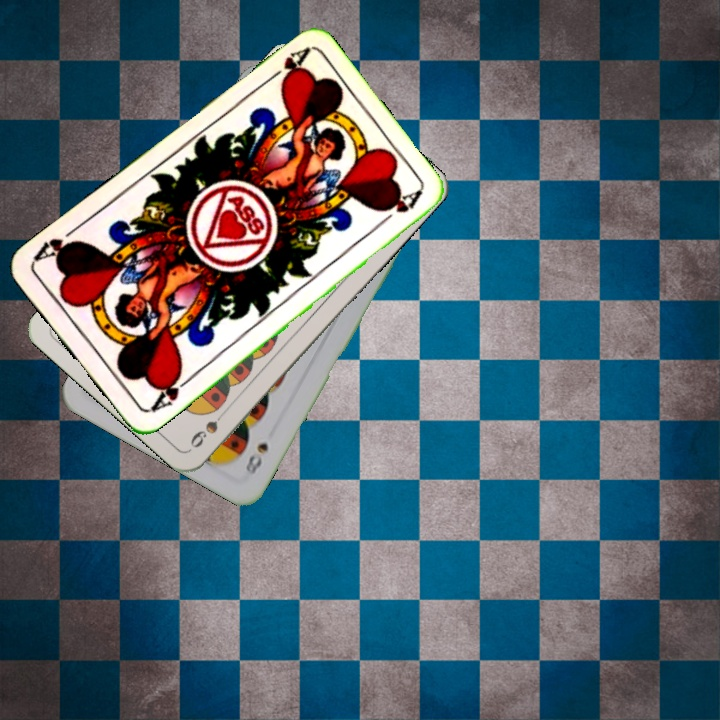HA: (146, 367, 195, 416), (259, 44, 311, 89)
S8: (241, 438, 271, 478)
S9: (186, 403, 231, 451)
